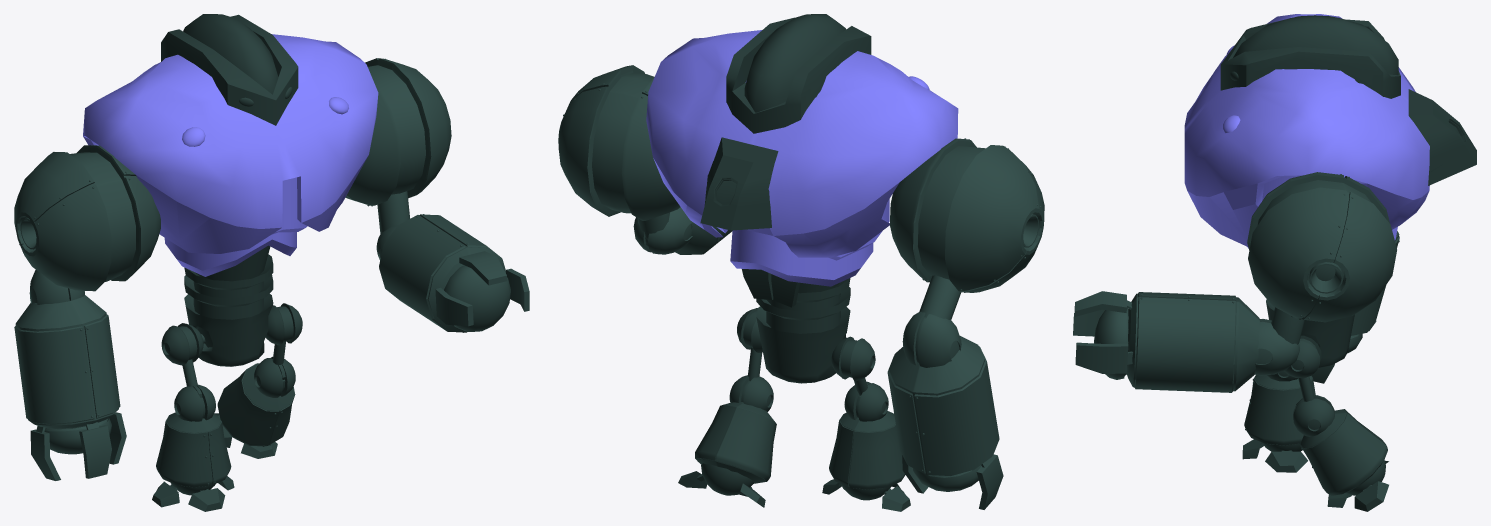
The model's file is rigexporttest.fbx.
3 views of the same model, side by side, from view 1: azimuth 30°, elevation 25°; view 2: azimuth 150°, elevation 25°; view 3: azimuth 270°, elevation 25° (orthographic). The views are drawn at different scales.
Visible parts, largest first — view 1: pCube90, arm2_pasted__pCylinder5, arm2_pasted__pSphere6, arm3_pasted__pCylinder5, arm3_pasted__pSphere7, lowerbody2, pSphere63, pasted__pCylinder12, pasted__pCylinder6, pasted__pSphere23, polySurface1, polySurface4 (+5 smaller); view 2: pCube90, arm2_pasted__pCylinder5, arm2_pasted__pSphere6, arm3_pasted__pCylinder5, lowerbody2, pSphere63, pasted__pCylinder12, arm3_pasted__pSphere7, pasted__pCylinder6, pasted__pSphere23, pasted__pSphere21, polySurface2 (+1 smaller); view 3: pCube90, arm3_pasted__pCylinder5, arm3_pasted__pSphere7, pasted__pCylinder12, pSphere63, lowerbody2, polySurface6, pasted__pSphere23, polySurface5, arm2_pasted__pSphere6, pasted__pCube22, pasted__pCube23 (+1 smaller).
Boxes of the visible parts, x1=… form: pCube90: x1=83, y1=14, x2=378, y2=276; arm2_pasted__pCylinder5: x1=14, y1=145, x2=160, y2=291; arm2_pasted__pSphere6: x1=14, y1=270, x2=120, y2=454; arm3_pasted__pCylinder5: x1=345, y1=58, x2=451, y2=233; arm3_pasted__pSphere7: x1=376, y1=214, x2=510, y2=332; lowerbody2: x1=184, y1=245, x2=273, y2=366; pSphere63: x1=156, y1=384, x2=231, y2=487; pasted__pCylinder12: x1=217, y1=356, x2=295, y2=446; pasted__pCylinder6: x1=161, y1=323, x2=205, y2=386; pasted__pSphere23: x1=265, y1=303, x2=302, y2=365; polySurface1: x1=79, y1=422, x2=111, y2=478; polySurface4: x1=435, y1=287, x2=473, y2=326; pCube90: x1=646, y1=14, x2=958, y2=286; arm2_pasted__pCylinder5: x1=890, y1=138, x2=1044, y2=319; arm2_pasted__pSphere6: x1=887, y1=311, x2=999, y2=491; arm3_pasted__pCylinder5: x1=558, y1=65, x2=680, y2=245; lowerbody2: x1=742, y1=269, x2=850, y2=383; pSphere63: x1=829, y1=381, x2=905, y2=489; pasted__pCylinder12: x1=695, y1=375, x2=776, y2=483; arm3_pasted__pSphere7: x1=633, y1=207, x2=732, y2=254; pasted__pCylinder6: x1=831, y1=336, x2=875, y2=394; pasted__pSphere23: x1=737, y1=308, x2=762, y2=380; pasted__pSphere21: x1=701, y1=463, x2=754, y2=495; polySurface2: x1=976, y1=454, x2=1003, y2=509; pCube90: x1=1184, y1=14, x2=1476, y2=248; arm3_pasted__pCylinder5: x1=1247, y1=172, x2=1396, y2=344; arm3_pasted__pSphere7: x1=1094, y1=292, x2=1299, y2=392; pasted__pCylinder12: x1=1293, y1=395, x2=1387, y2=495; pSphere63: x1=1244, y1=371, x2=1315, y2=445; lowerbody2: x1=1266, y1=299, x2=1354, y2=368; polySurface6: x1=1075, y1=342, x2=1133, y2=373; pasted__pSphere23: x1=1284, y1=335, x2=1321, y2=401; polySurface5: x1=1074, y1=291, x2=1131, y2=316; arm2_pasted__pSphere6: x1=1347, y1=231, x2=1399, y2=353; pasted__pCube22: x1=1265, y1=450, x2=1307, y2=472; pasted__pCube23: x1=1354, y1=481, x2=1388, y2=511.
Bounding box in the file's own units: 63.34 × 64.07 × 50.62.
Materials: 6 (1 with a texture image).
